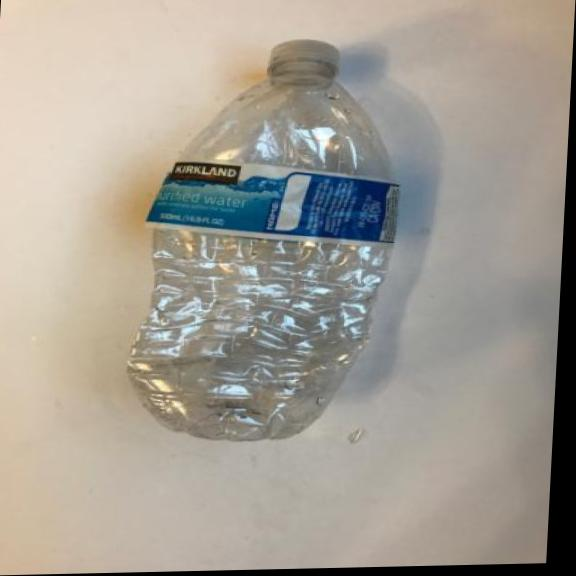Plastik: (110, 22, 422, 459)
